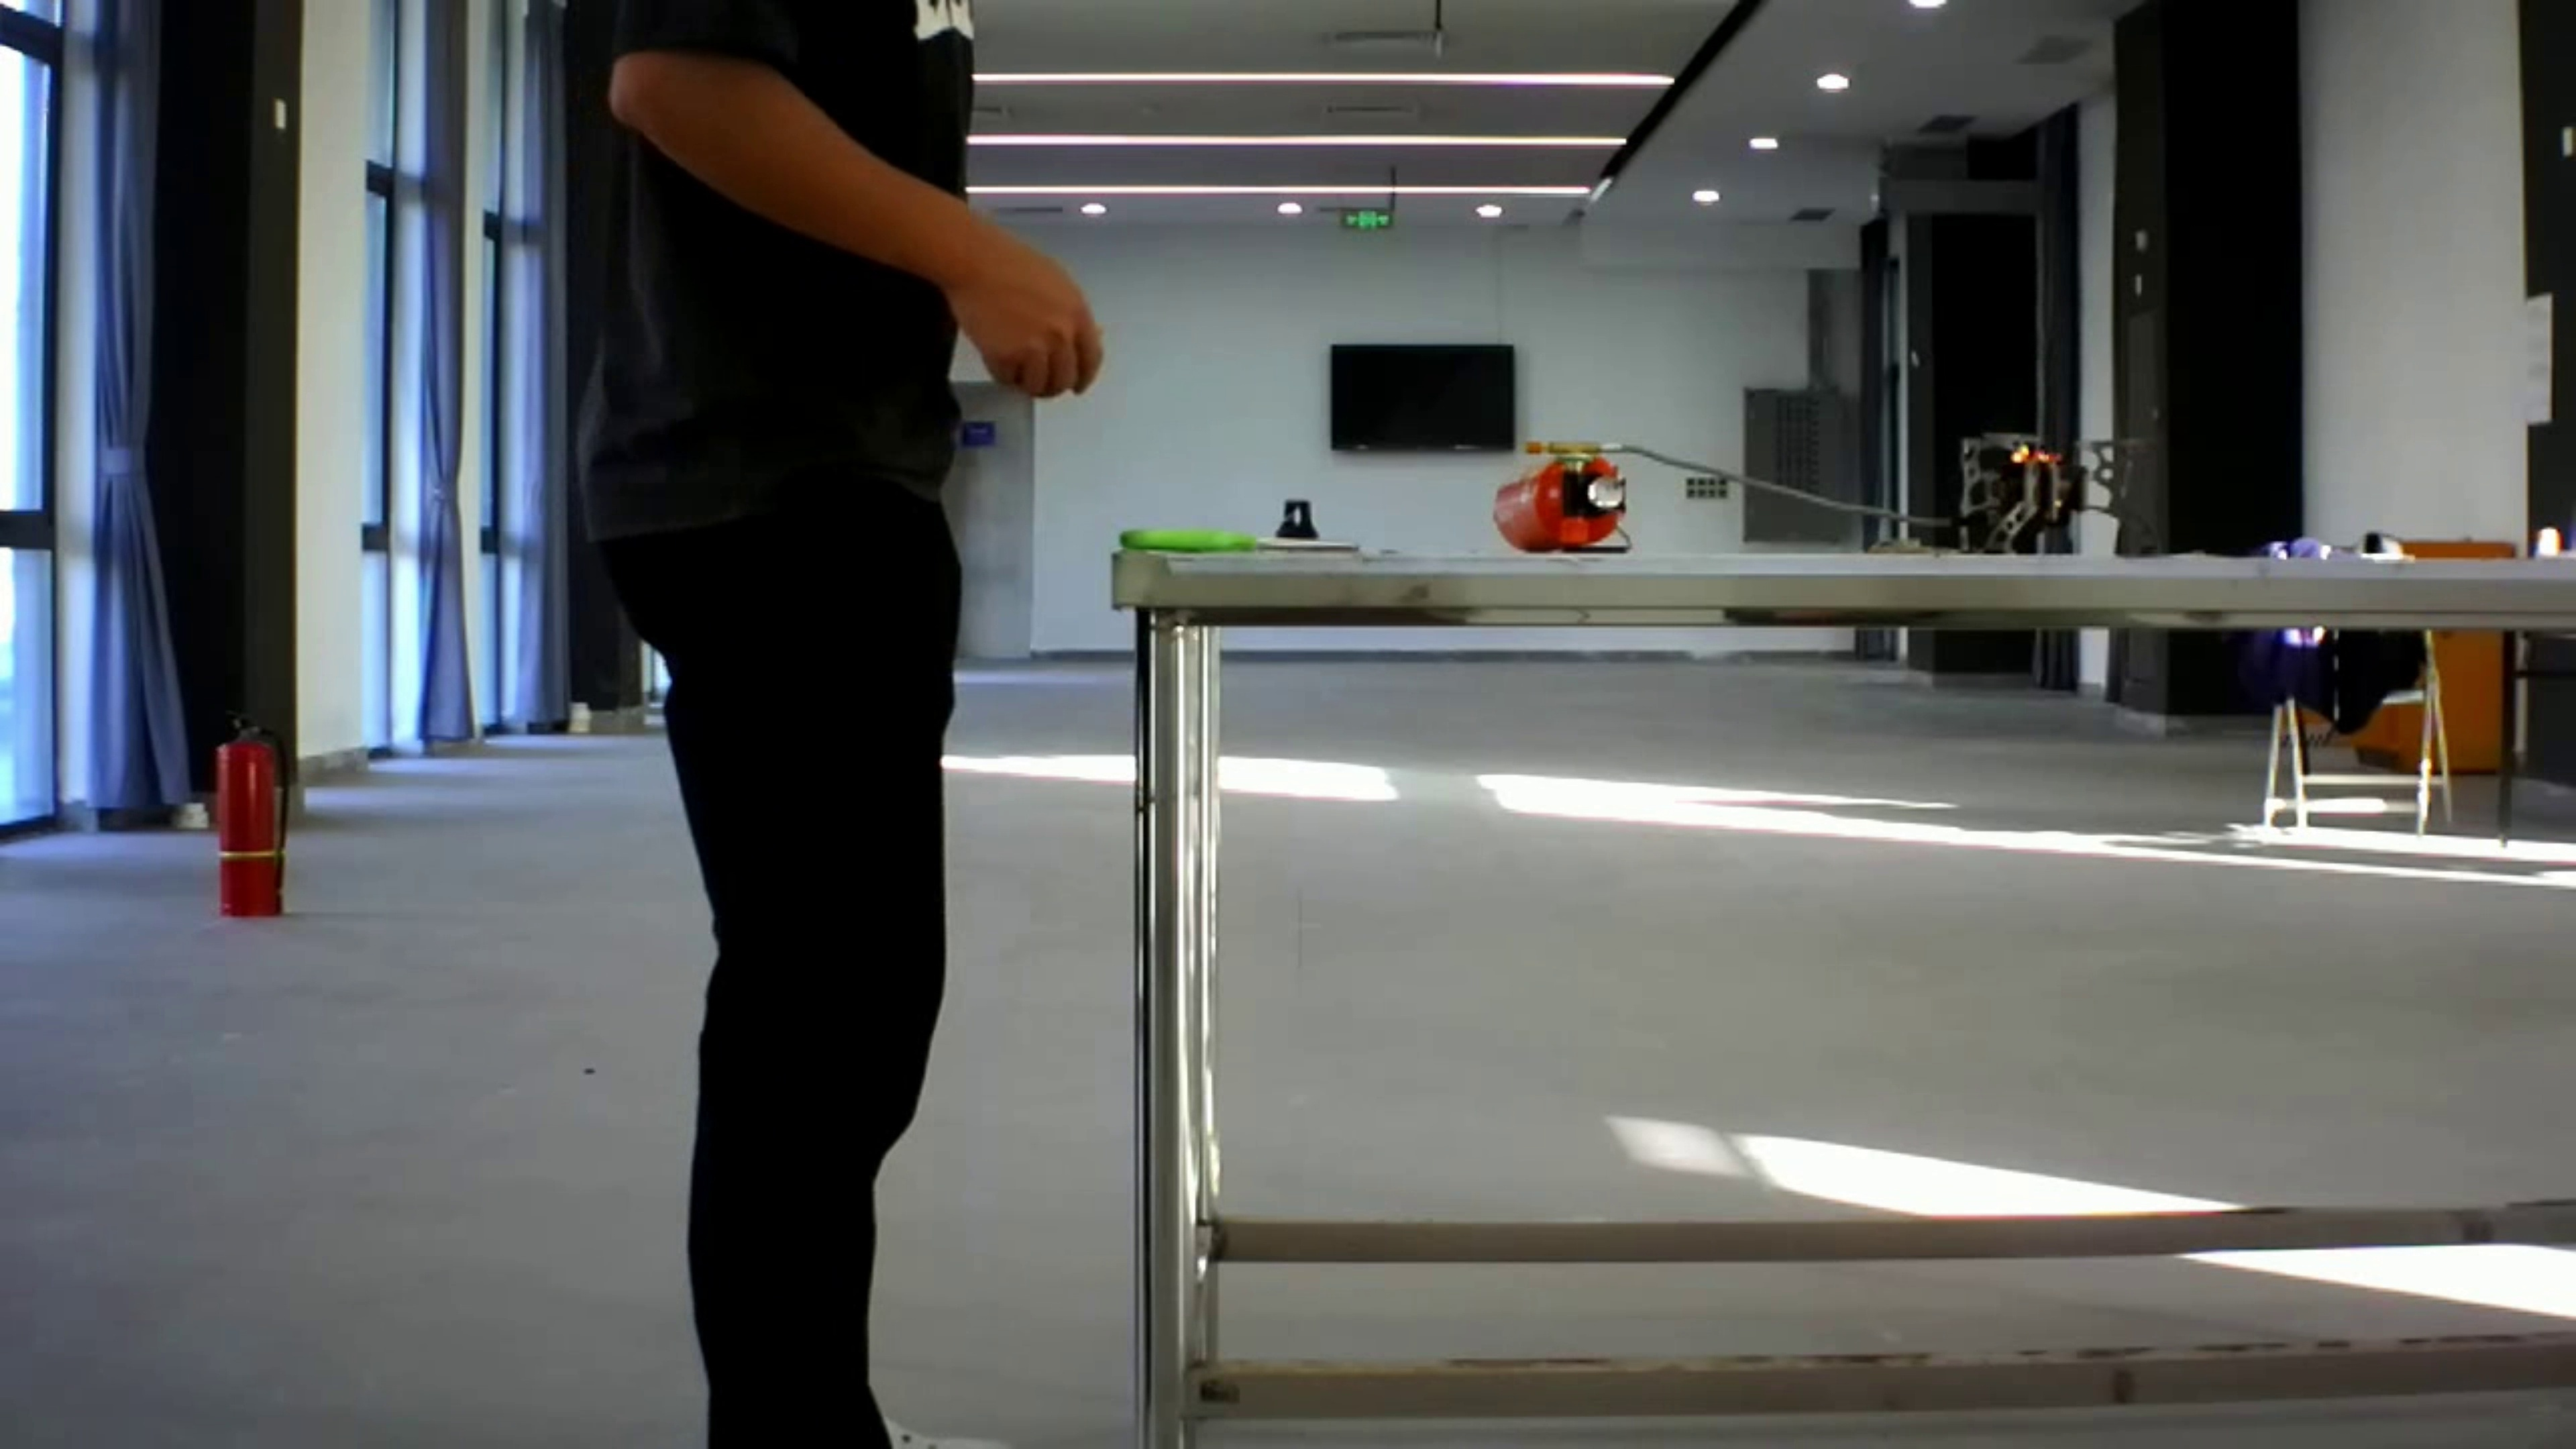Fire: (1996, 421, 2079, 478)
